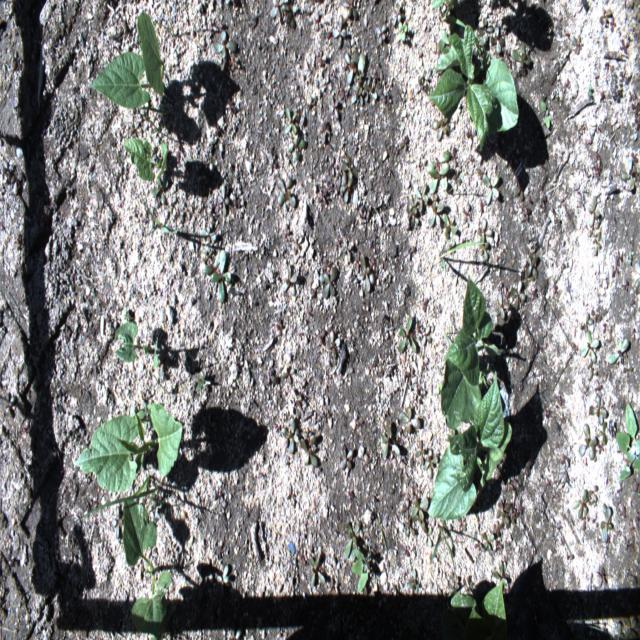crop: (427, 366, 513, 522), (425, 24, 520, 154), (70, 399, 184, 498), (440, 270, 497, 430), (435, 579, 510, 639), (85, 51, 153, 111), (134, 9, 175, 103), (128, 565, 174, 639), (121, 494, 159, 574), (110, 320, 162, 372), (119, 136, 169, 186), (142, 190, 183, 239), (430, 0, 446, 11)
weed: (341, 50, 381, 108), (200, 240, 234, 306), (614, 402, 640, 482), (334, 150, 359, 208), (496, 476, 524, 526), (426, 147, 452, 195), (280, 410, 305, 456), (378, 420, 402, 464), (396, 312, 418, 360), (268, 0, 299, 34), (212, 27, 242, 62), (355, 248, 376, 297), (306, 546, 328, 592), (350, 546, 372, 592), (342, 518, 362, 566), (275, 173, 299, 212), (299, 429, 320, 472), (578, 328, 601, 367), (318, 262, 340, 302), (578, 420, 598, 464), (397, 403, 422, 438), (286, 131, 310, 166), (572, 488, 590, 532), (588, 392, 610, 427), (607, 335, 631, 367), (619, 155, 638, 195), (481, 171, 501, 208), (507, 278, 528, 313), (323, 328, 344, 362), (406, 493, 430, 522), (599, 500, 615, 543), (441, 211, 461, 245), (216, 180, 232, 222), (331, 13, 349, 50), (279, 265, 298, 300), (426, 198, 445, 232), (512, 41, 534, 69), (414, 180, 431, 216), (493, 290, 512, 322), (422, 447, 439, 482), (432, 115, 454, 142), (478, 13, 494, 46), (283, 103, 298, 138), (477, 218, 495, 247), (524, 250, 540, 282), (509, 176, 526, 206), (538, 99, 552, 135), (490, 23, 506, 54), (492, 558, 509, 587), (196, 224, 220, 244), (588, 195, 602, 229), (478, 529, 496, 555), (405, 566, 422, 593), (338, 445, 354, 473), (415, 438, 429, 468), (624, 614, 640, 639), (389, 2, 404, 28), (407, 190, 419, 222), (341, 1, 361, 20), (374, 23, 388, 50), (399, 494, 411, 524), (592, 229, 604, 259), (216, 562, 230, 587), (396, 20, 409, 45), (582, 311, 594, 336), (612, 620, 626, 640), (598, 420, 608, 448), (589, 484, 599, 507)
